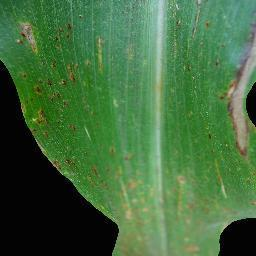Corn_Common_Rust: (8, 5, 109, 256), (193, 7, 256, 210), (108, 150, 193, 256), (173, 5, 184, 35)
